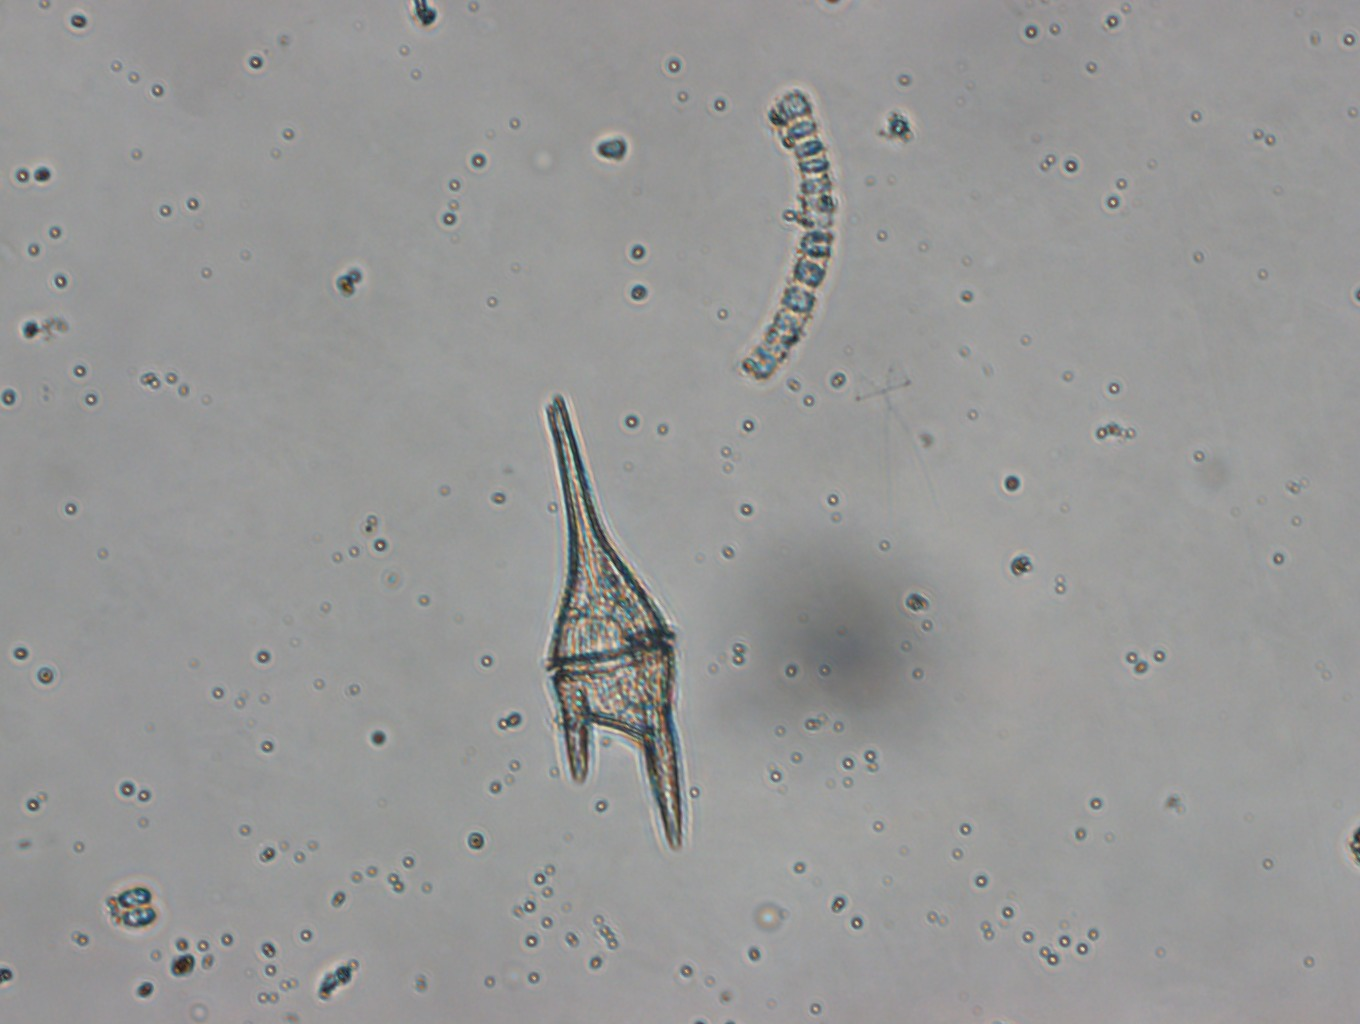ceratium furca: (541, 393, 684, 851)
chaetoceros: (740, 85, 838, 387)
